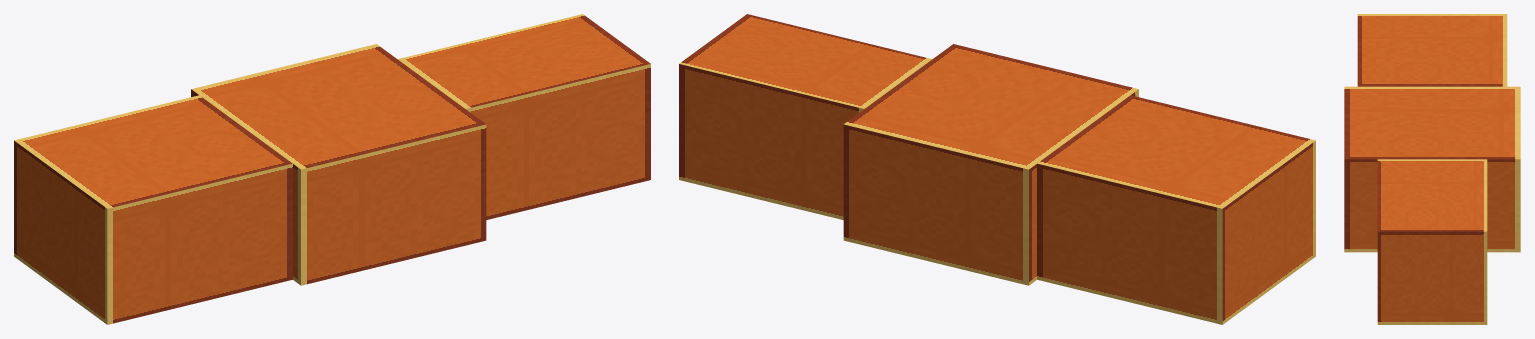
File: bench_xuantie_spear_0_hot.obj
3 renders of one model, left to right at view 1: azimuth 30°, elevation 25°; view 2: azimuth 150°, elevation 25°; view 3: azimuth 270°, elevation 25°, orthographic. The views are drawn at different scales.
Parts seen in each view (by area): view 1: geometry; view 2: geometry; view 3: geometry.
Part boxes in pixels (x1=…): geometry: x1=14, y1=14, x2=650, y2=324; geometry: x1=679, y1=14, x2=1315, y2=324; geometry: x1=1344, y1=14, x2=1520, y2=324.
Size of the model in its own units: 0.75 by 0.1497 by 0.2568.
